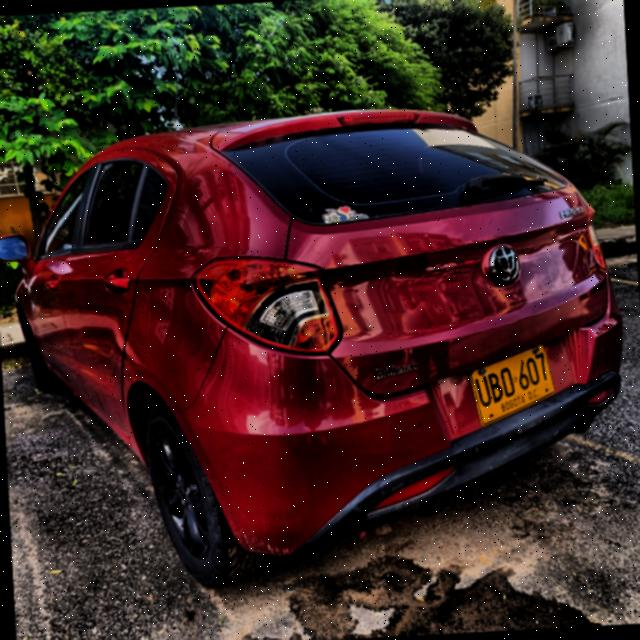plate: (470, 345, 554, 425)
